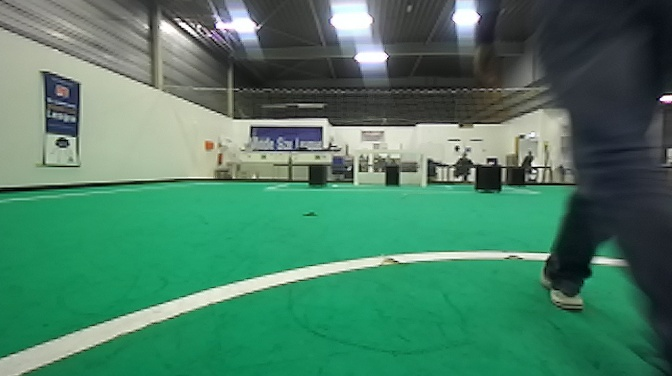goalpost: (350, 149, 365, 183), (417, 149, 430, 187)
human: (494, 4, 660, 371)
